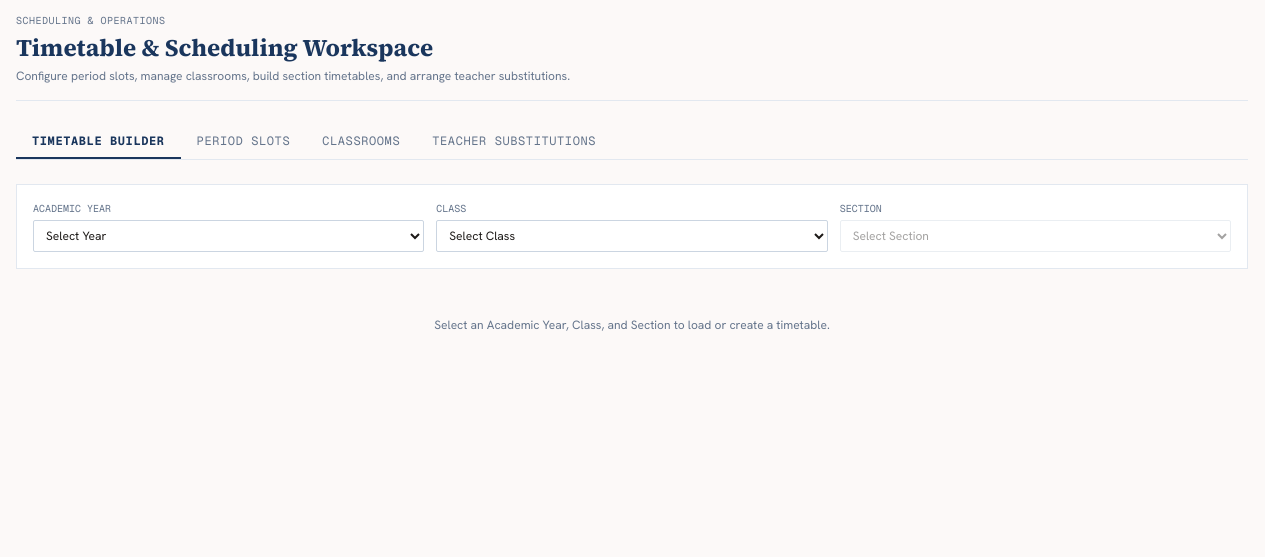
Test: TimetablePage Component › shows error state when period slots fail to load
Click the button "Period Slots": (243, 142) left=181, top=125, right=306, bottom=159
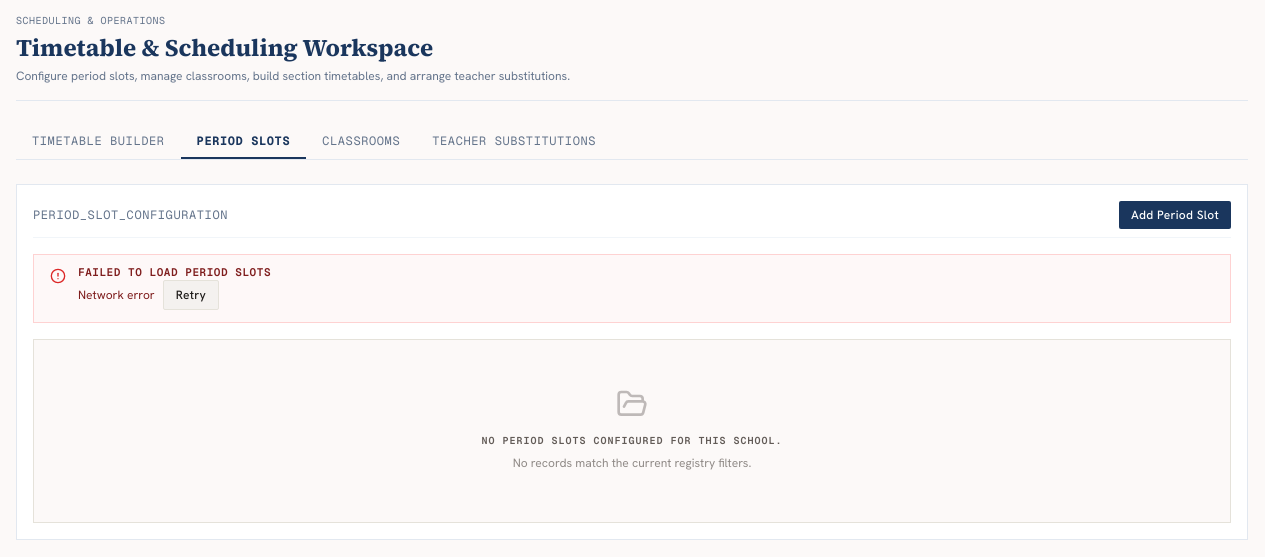
Expected: the heading "Failed to load period slots" is shown, left=78, top=265, right=271, bottom=279
